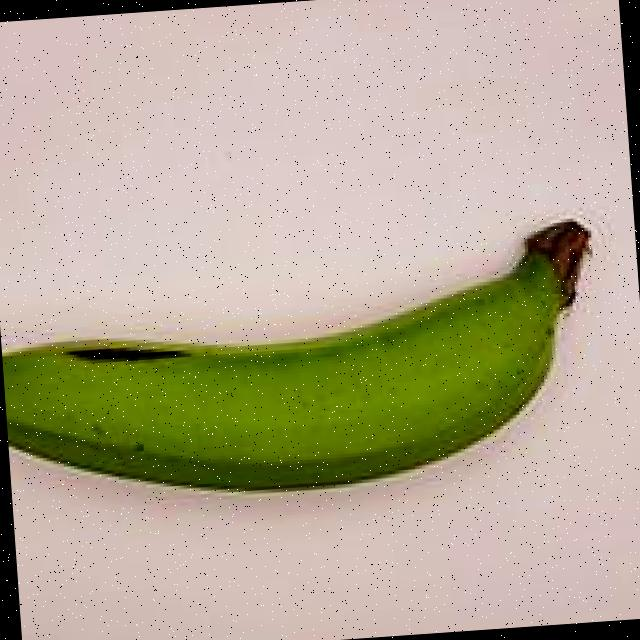Raw: (0, 194, 631, 523)
